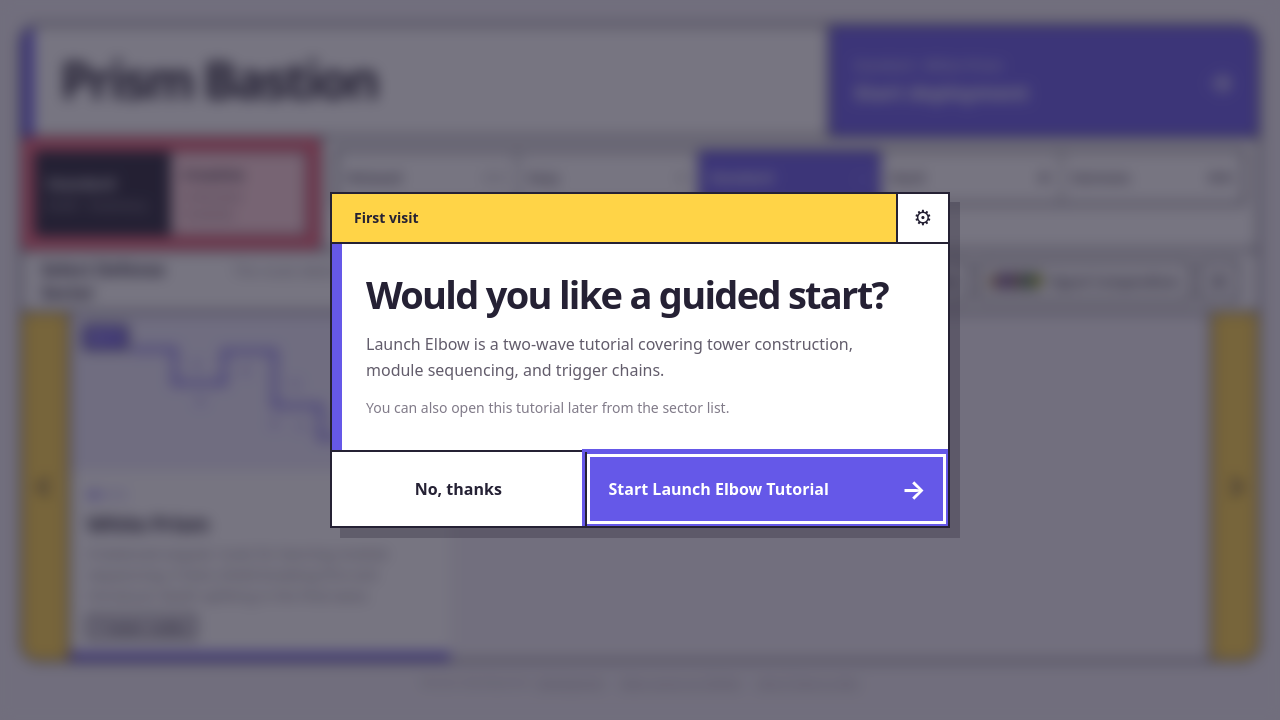
level selection accessibility › shows one selected level card at a time at 949px wide
Click the button "No, thanks" at (458, 489), box [332,452,584,526]
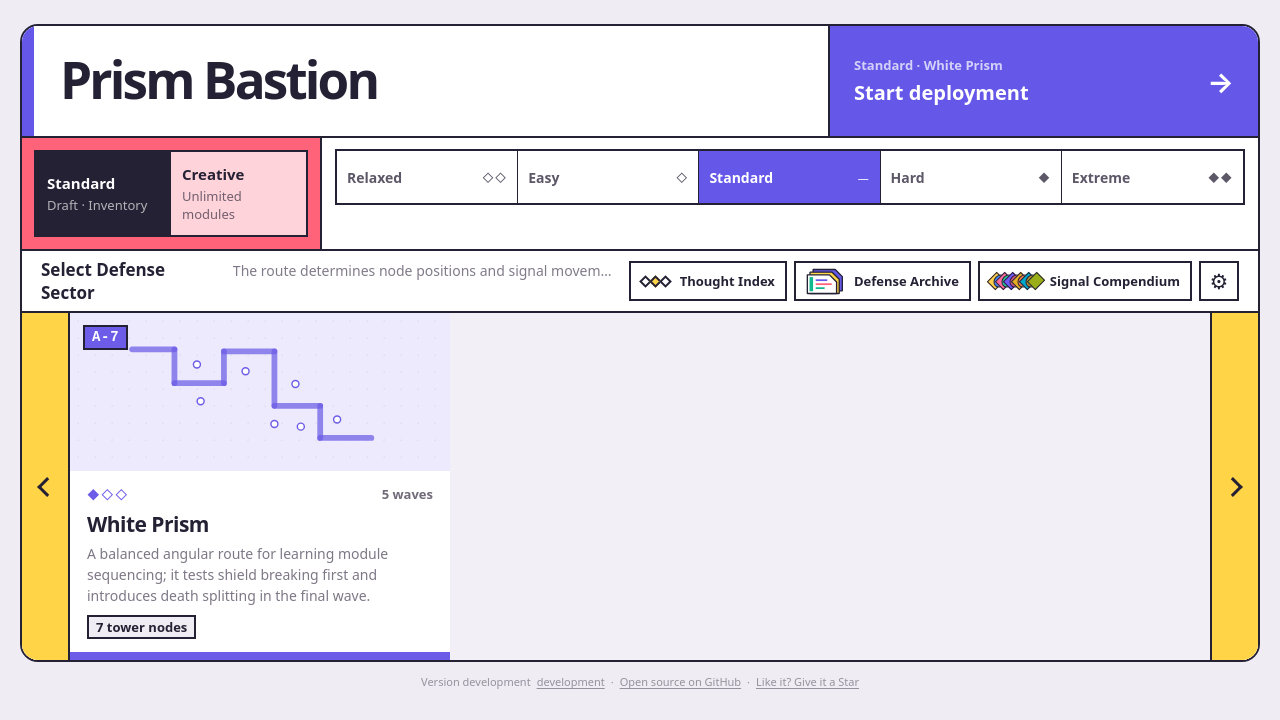
Expected: the element named "Choose defense sector" shows "White Prism", [70,313,450,660]
Click the button named "Show next levels" at (1234, 487), box [1210,313,1258,660]
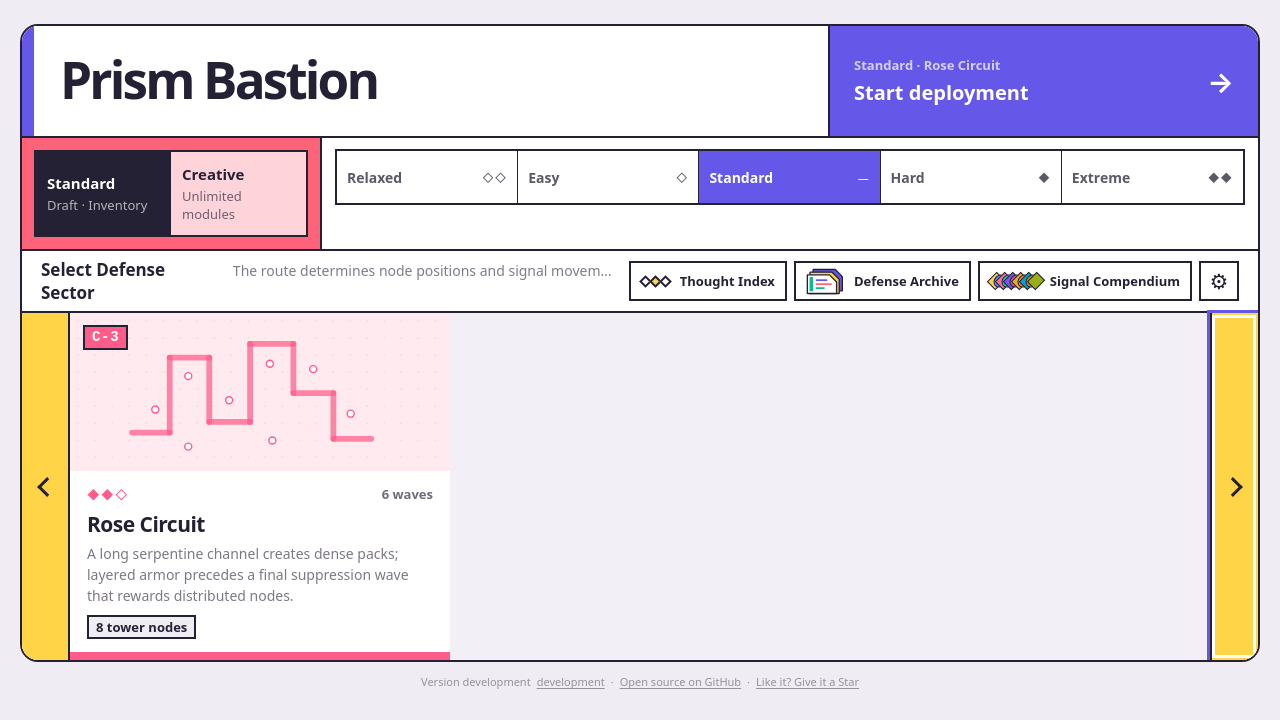
Now the element named "Choose defense sector" shows "Rose Circuit", box [70,313,450,660]
